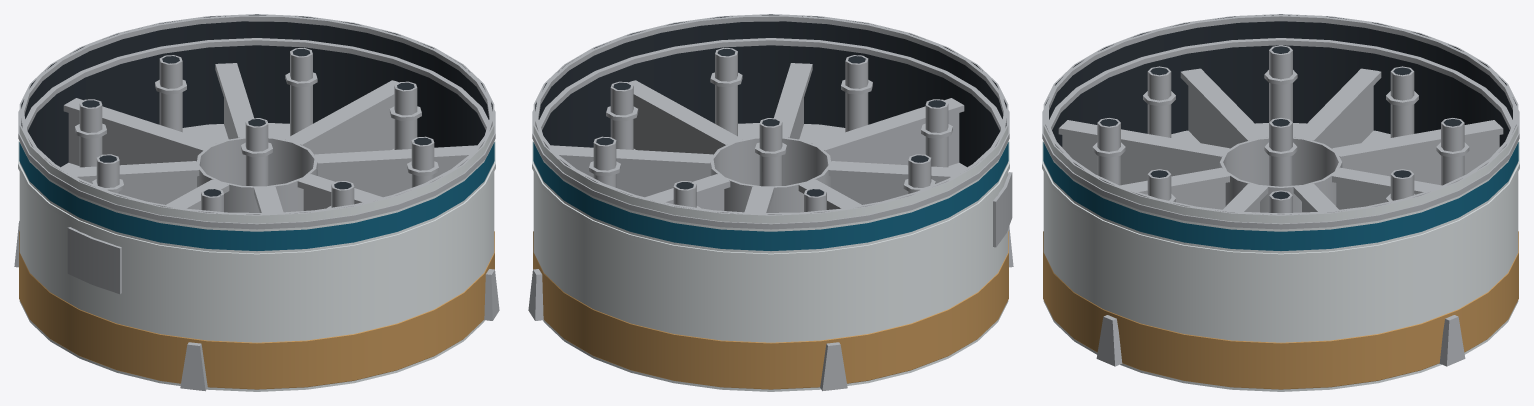
The model's file is mount_s1_9_d54.glb.
3 renders of one model, left to right at view 1: azimuth 30°, elevation 25°; view 2: azimuth 150°, elevation 25°; view 3: azimuth 270°, elevation 25°, orthographic.
Visible parts, largest first — view 1: mount_s1_9_d54_mesh; view 2: mount_s1_9_d54_mesh; view 3: mount_s1_9_d54_mesh.
Part boxes in pixels (x1=…): mount_s1_9_d54_mesh: x1=14, y1=14, x2=499, y2=391; mount_s1_9_d54_mesh: x1=528, y1=14, x2=1013, y2=391; mount_s1_9_d54_mesh: x1=1042, y1=14, x2=1519, y2=391.
Bounding box in the file's own units: 5.44 × 2.2 × 5.41.
